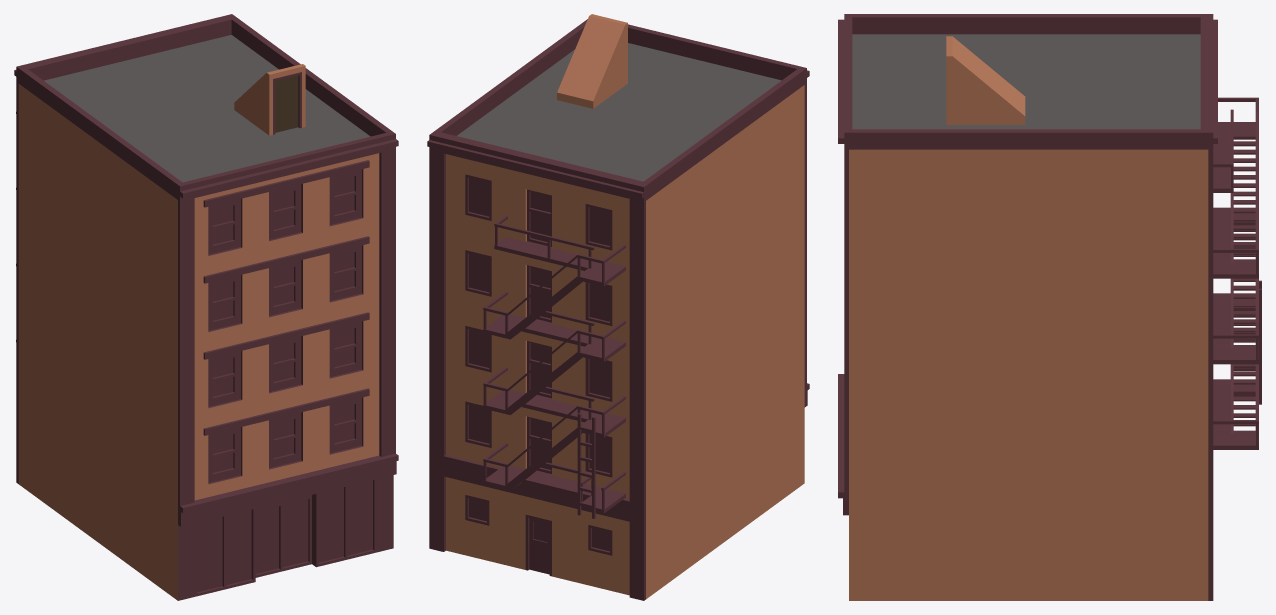
Rendered from Building 4 étages petit.fbx.
The picture shows the model from 3 angles, left to right: view 1: azimuth 30°, elevation 25°; view 2: azimuth 150°, elevation 25°; view 3: azimuth 270°, elevation 25°; orthographic projection. The views are drawn at different scales.
Parts seen in each view (by area): view 1: building-block-4floor-short; view 2: building-block-4floor-short; view 3: building-block-4floor-short.
Boxes of the visible parts, bbox=[...] form: building-block-4floor-short: bbox=[14, 14, 398, 600]; building-block-4floor-short: bbox=[427, 14, 809, 600]; building-block-4floor-short: bbox=[838, 14, 1261, 600].
Size of the model in its own units: 890 by 1820 by 1345.
